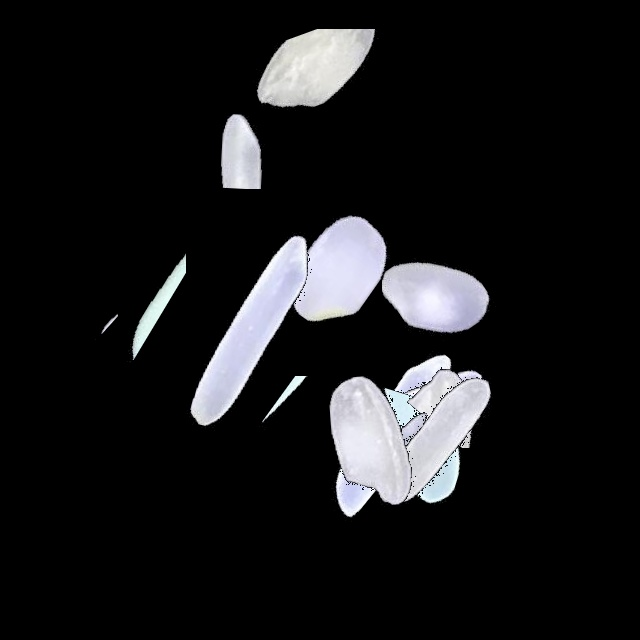Broken: (382, 148, 556, 398), (205, 29, 455, 180), (350, 326, 497, 576), (328, 335, 461, 585), (122, 67, 372, 189), (230, 383, 480, 501), (358, 331, 608, 448), (83, 133, 186, 383), (195, 376, 445, 474), (36, 175, 118, 425)
Full: (216, 146, 466, 396), (264, 306, 514, 556), (125, 206, 375, 456), (318, 312, 568, 562), (246, 314, 496, 564)
